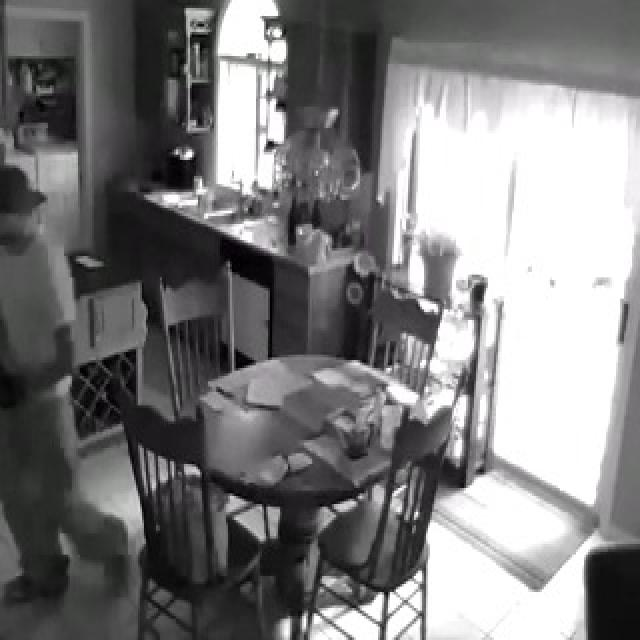thief: (0, 156, 64, 247)
